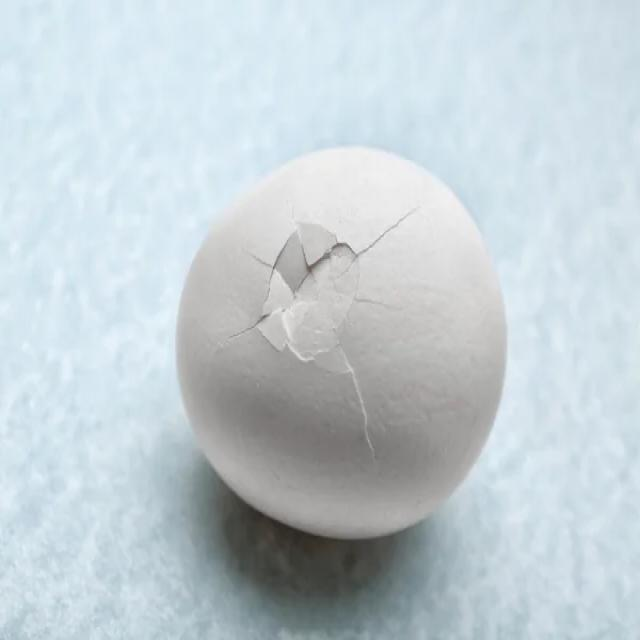biodegradable: (169, 133, 512, 556)
